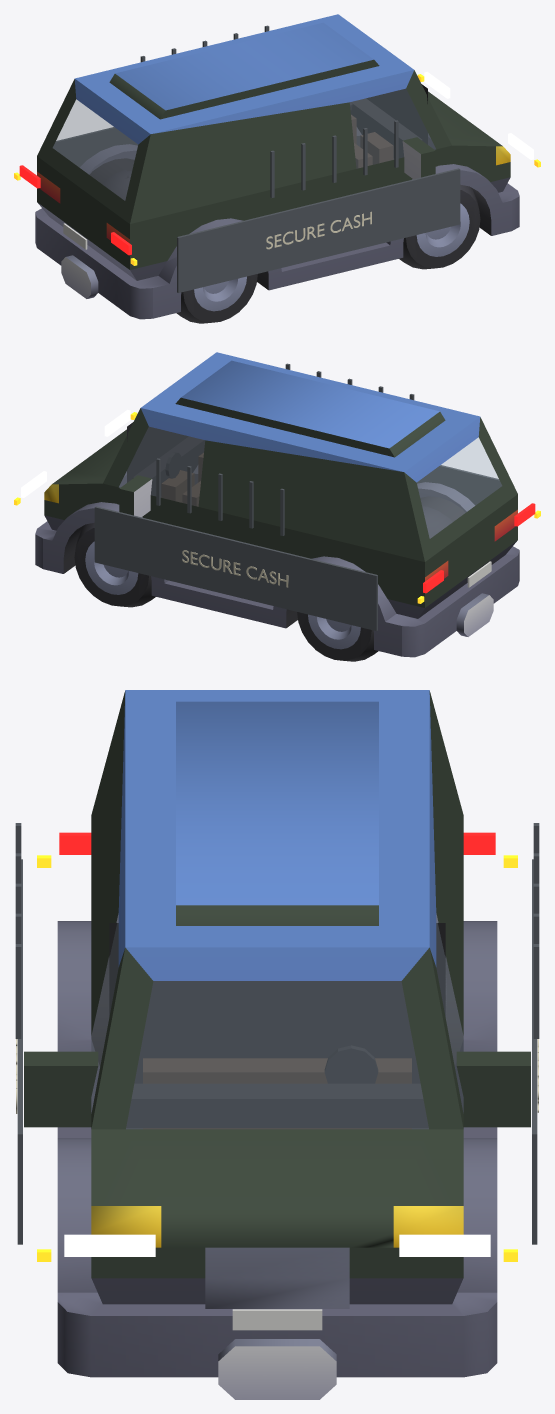
Rendered from veh_van.glb.
3 renders of one model, top to bottom at view 1: azimuth 30°, elevation 25°; view 2: azimuth 150°, elevation 25°; view 3: azimuth 270°, elevation 25°, orthographic. The views are drawn at different scales.
Visible parts, largest first — view 1: body, armour_side_-1, wheel_fr, wheel_rr, interior, armour_side_1, interior_dash, interior_seat_-1, light_head, decal_cash_-1, light_tail, wheel_rl; view 2: body, armour_side_1, wheel_fl, wheel_rl, interior, armour_side_-1, interior_dash, decal_cash_1, light_head, interior_seat_1, light_tail, wheel_rr; view 3: body, interior, interior_dash, interior_bench, light_head, plate_front, interior_steer, armour_side_1, armour_side_-1, light_tail.
Part boxes in pixels (left/top/right/bottom): body: left=35, top=14, right=519, bottom=319; armour_side_-1: left=177, top=168, right=460, bottom=292; wheel_fr: left=399, top=184, right=480, bottom=269; wheel_rr: left=176, top=274, right=257, bottom=323; interior: left=356, top=84, right=427, bottom=158; armour_side_1: left=53, top=127, right=137, bottom=167; interior_dash: left=350, top=98, right=421, bottom=155; interior_seat_-1: left=360, top=132, right=393, bottom=164; light_head: left=424, top=71, right=533, bottom=159; decal_cash_-1: left=266, top=211, right=371, bottom=249; light_tail: left=19, top=165, right=131, bottom=255; wheel_rl: left=102, top=169, right=131, bottom=200; body: left=35, top=352, right=519, bottom=657; armour_side_1: left=94, top=506, right=377, bottom=630; wheel_fl: left=74, top=522, right=155, bottom=607; wheel_rl: left=297, top=612, right=378, bottom=661; interior: left=127, top=422, right=198, bottom=496; armour_side_-1: left=417, top=465, right=501, bottom=505; interior_dash: left=133, top=436, right=204, bottom=493; decal_cash_1: left=182, top=550, right=288, bottom=587; light_head: left=21, top=409, right=130, bottom=497; interior_seat_1: left=161, top=470, right=194, bottom=502; light_tail: left=423, top=503, right=535, bottom=593; wheel_rr: left=422, top=506, right=452, bottom=538; body: left=24, top=690, right=530, bottom=1399; interior: left=109, top=923, right=445, bottom=1129; interior_dash: left=126, top=1083, right=428, bottom=1127; interior_bench: left=143, top=1058, right=411, bottom=1129; light_head: left=64, top=1234, right=490, bottom=1256; plate_front: left=232, top=1309, right=322, bottom=1330; interior_steer: left=324, top=1045, right=378, bottom=1083; armour_side_1: left=532, top=859, right=537, bottom=1244; armour_side_-1: left=17, top=859, right=22, bottom=1244; light_tail: left=59, top=832, right=495, bottom=854.
Size of the model in its own units: 5.25 by 2.55 by 2.93.
11 materials, 1 textured.
